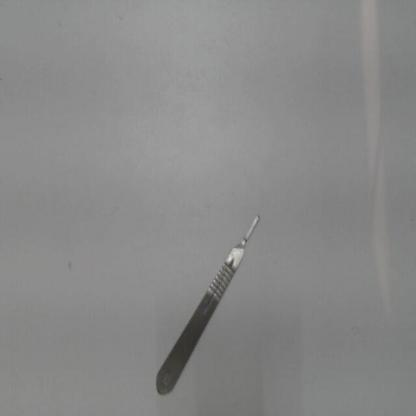No.3 BP Handle: (143, 202, 276, 406)
